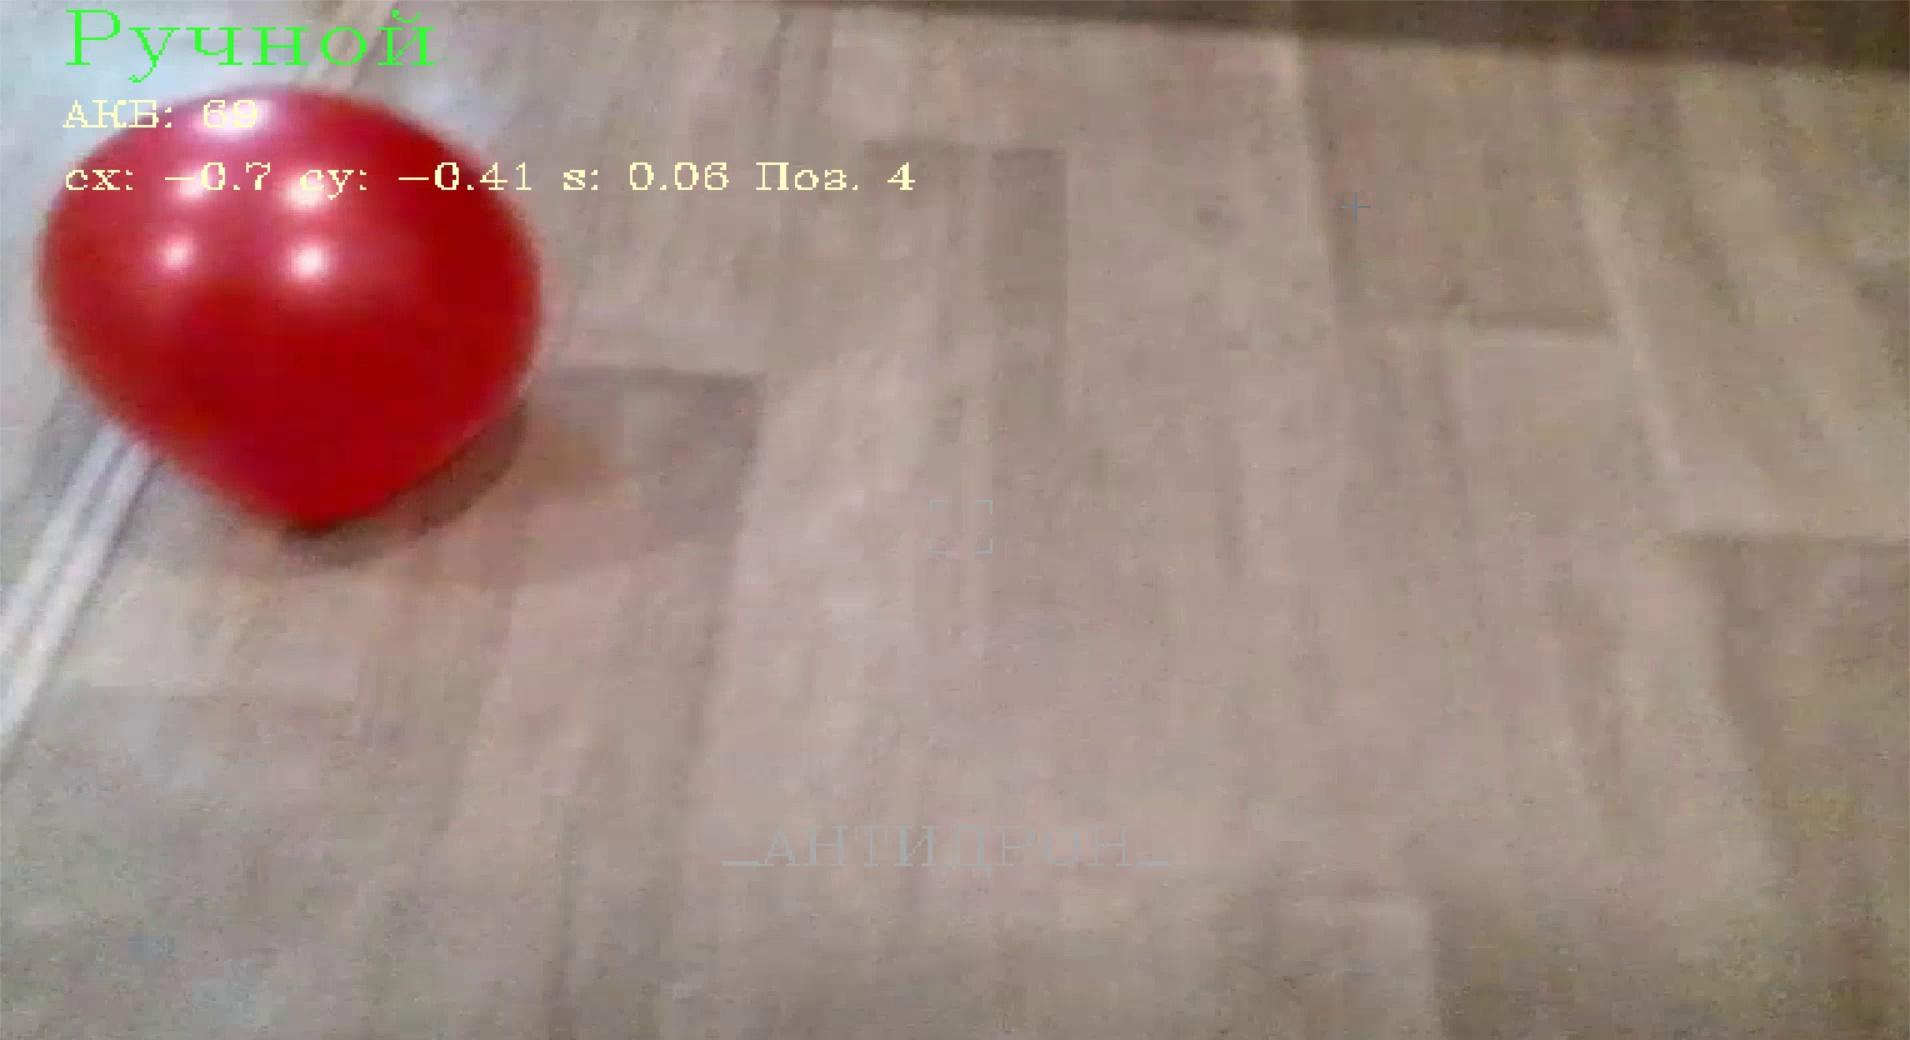red: (32, 85, 548, 556)
